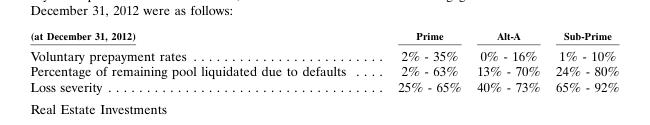table: (29, 29, 618, 93)
table column: (29, 29, 371, 93), (371, 29, 468, 93), (468, 29, 547, 93), (547, 29, 618, 93)
table column header: (29, 29, 618, 44)
table row: (29, 44, 618, 62), (29, 62, 618, 78), (29, 29, 618, 44), (29, 78, 618, 93)
